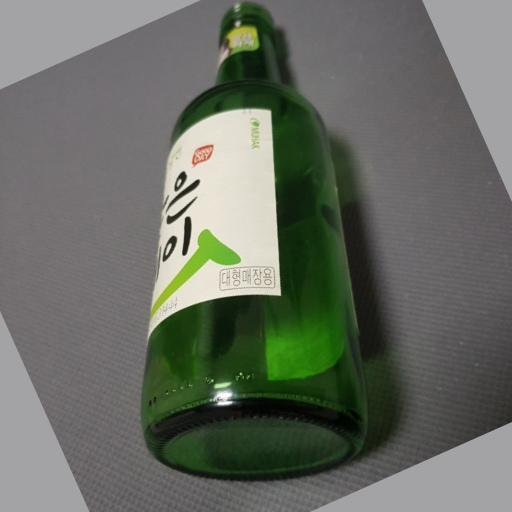Glass_0: (129, 1, 373, 478)
